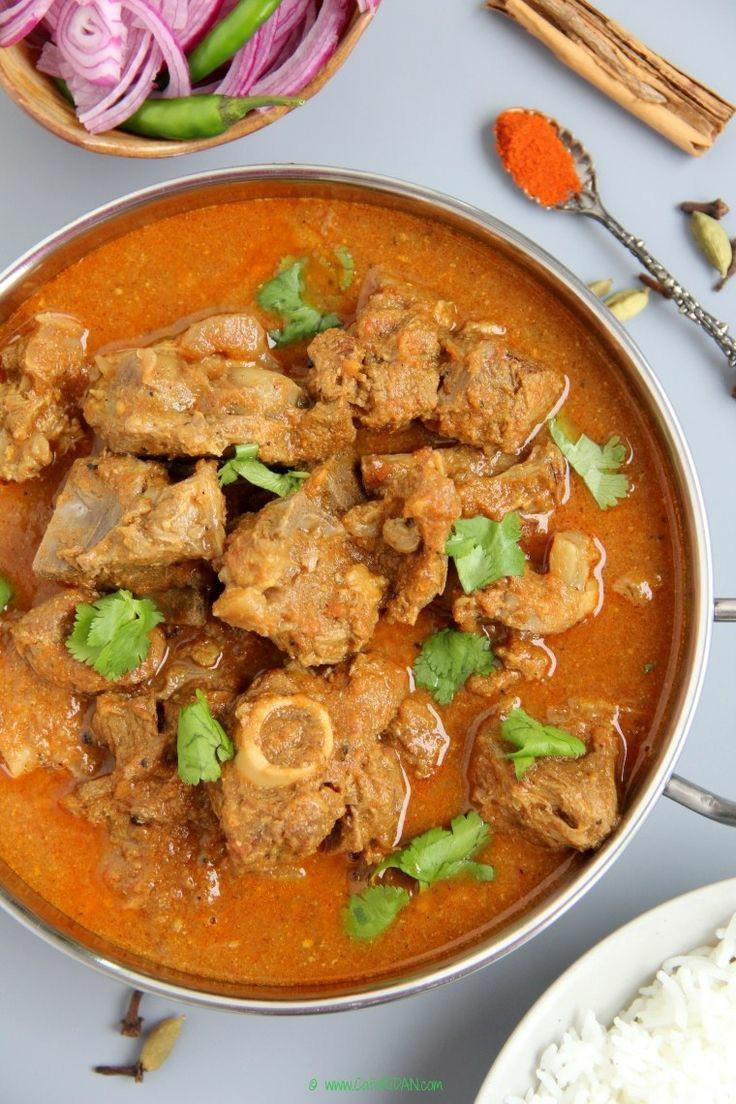MuttonCurry: (0, 182, 678, 991)
